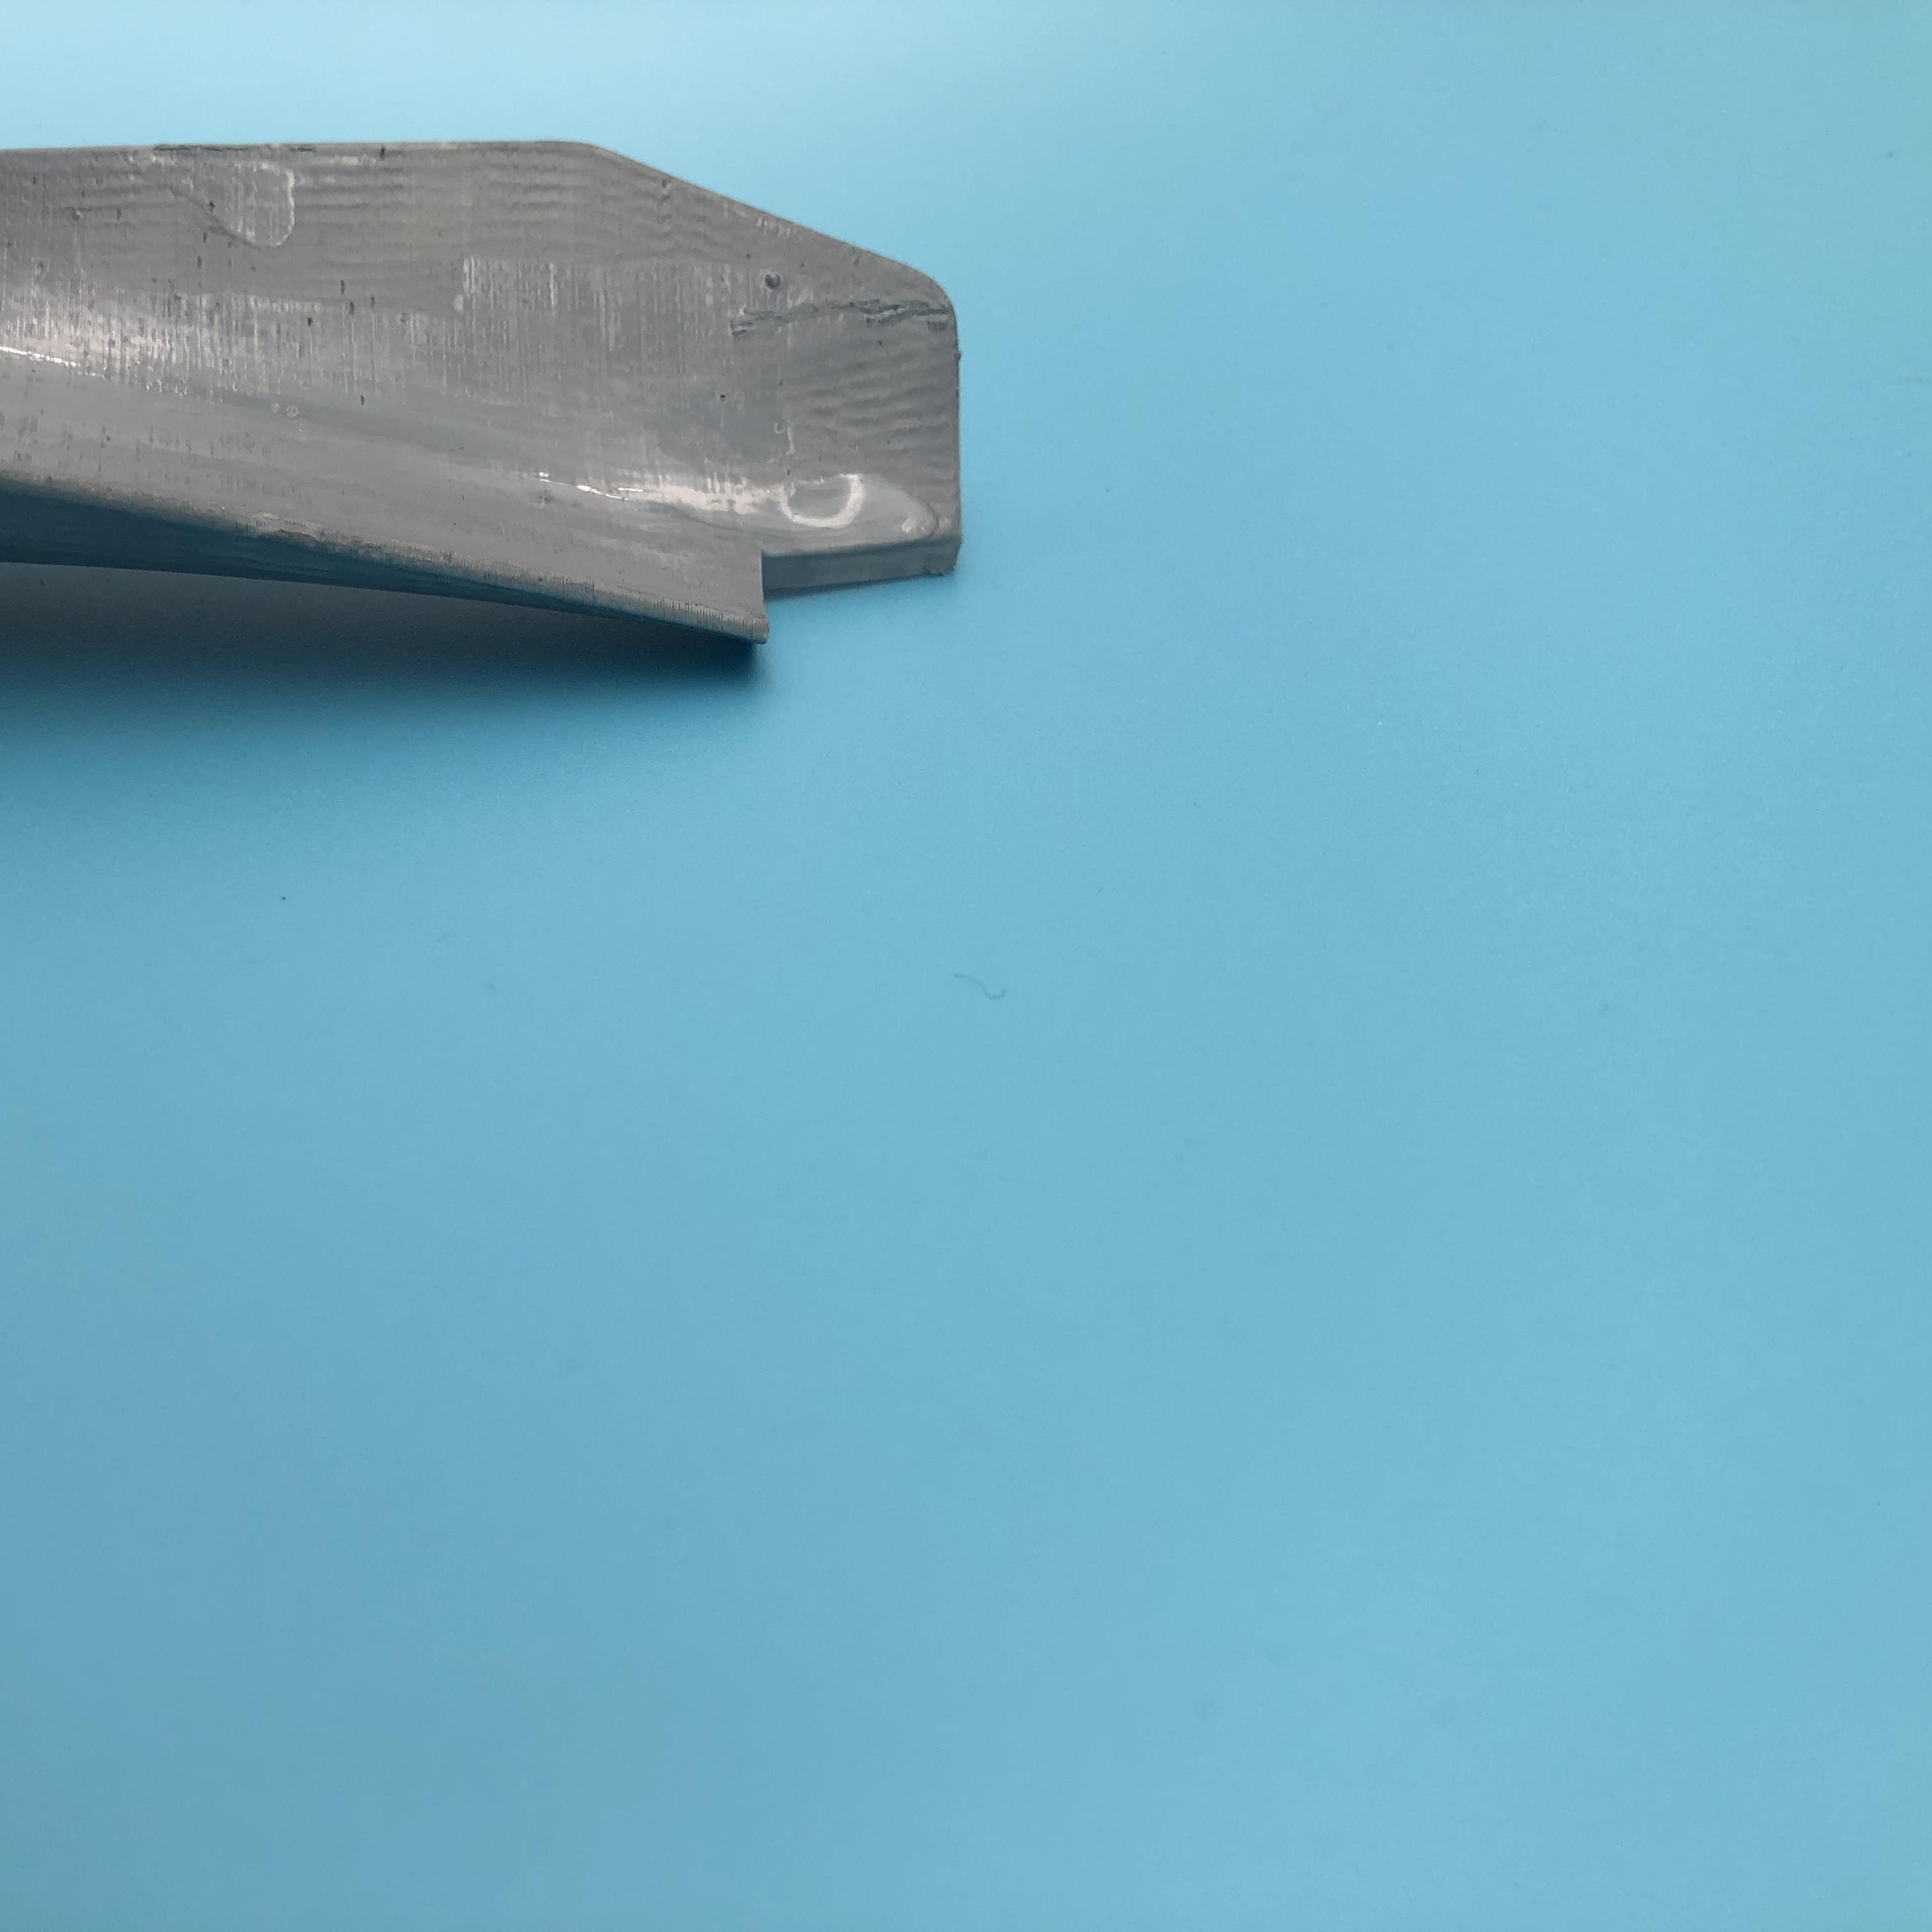fracture: (745, 536, 959, 651)
